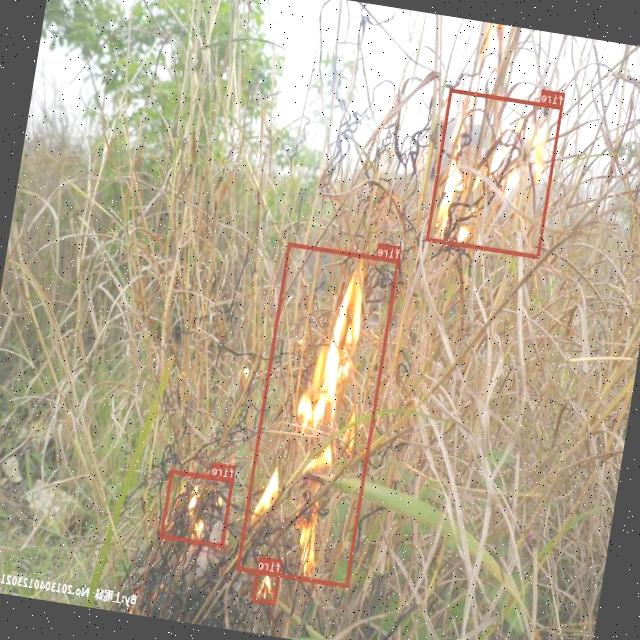fire: (237, 242, 400, 588), (426, 88, 564, 258), (161, 469, 234, 547), (252, 570, 281, 604)
